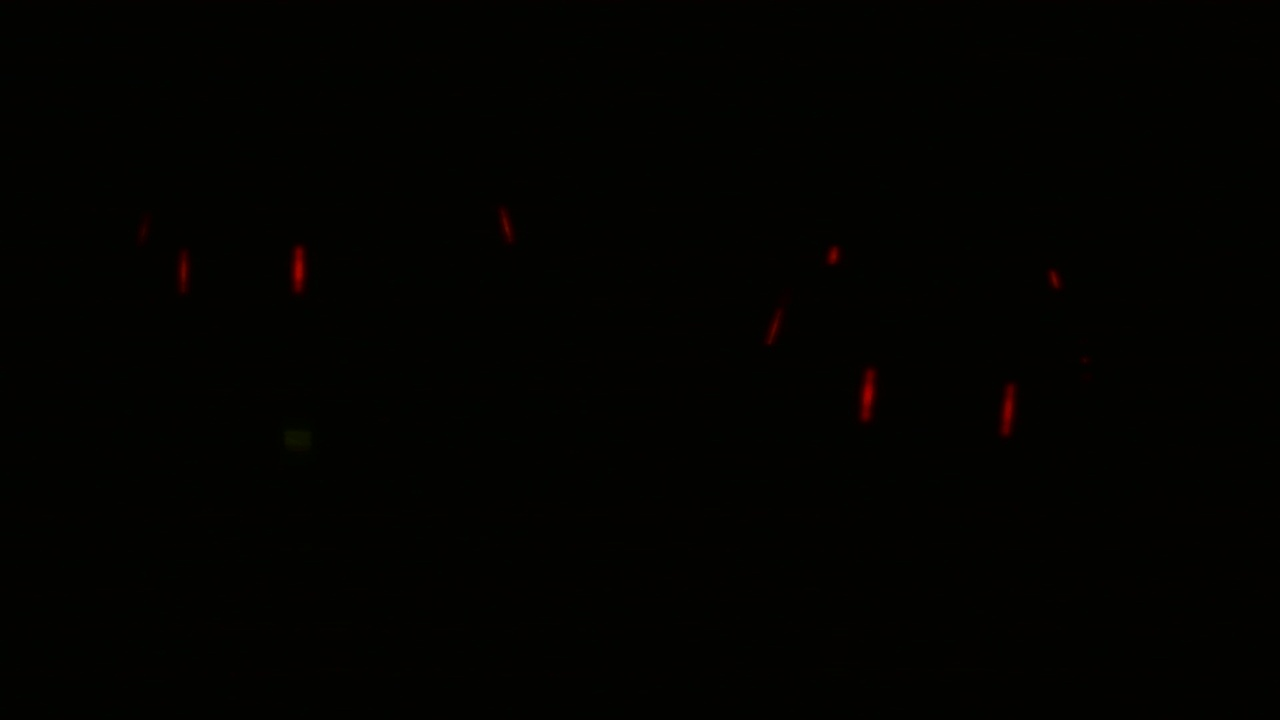pair1: (860, 365, 1018, 440), (169, 237, 310, 303)
